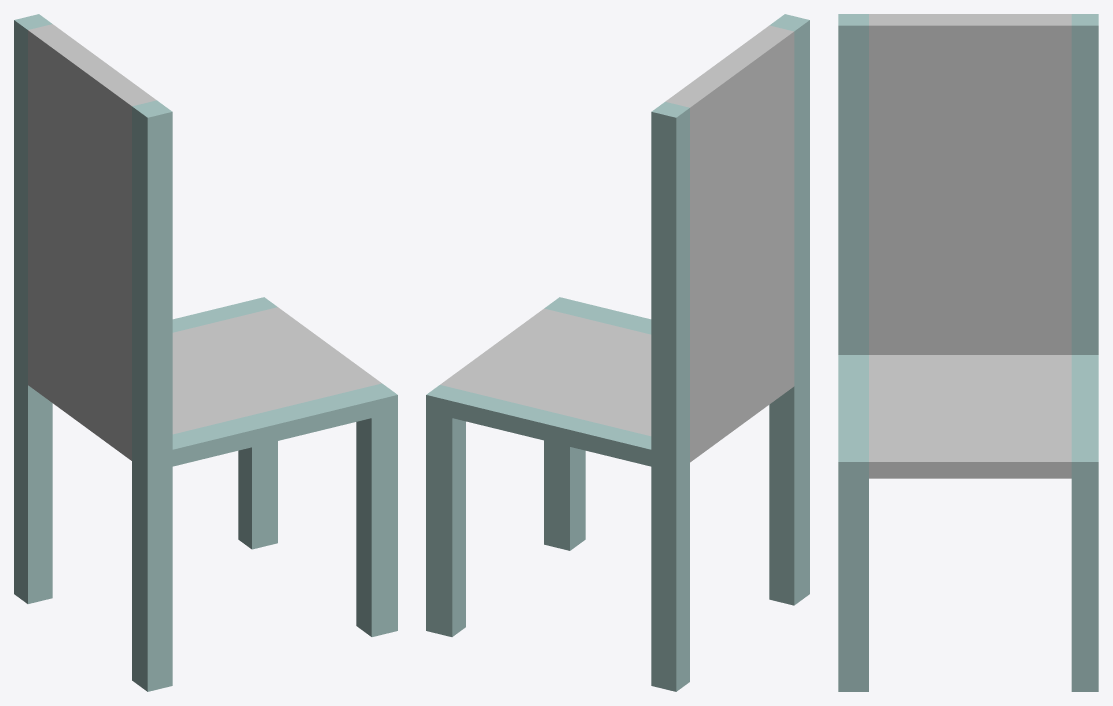
File: silla.fbx
3 renders of one model, left to right at view 1: azimuth 30°, elevation 25°; view 2: azimuth 150°, elevation 25°; view 3: azimuth 270°, elevation 25°, orthographic. The views are drawn at different scales.
Visible parts, largest first — view 1: silla; view 2: silla; view 3: silla.
Boxes of the visible parts, box(x1,y1,x2,y2) form: silla: box(14, 14, 397, 691); silla: box(426, 14, 809, 691); silla: box(838, 14, 1098, 691).
Size of the model in its own units: 239 by 525 by 221.
